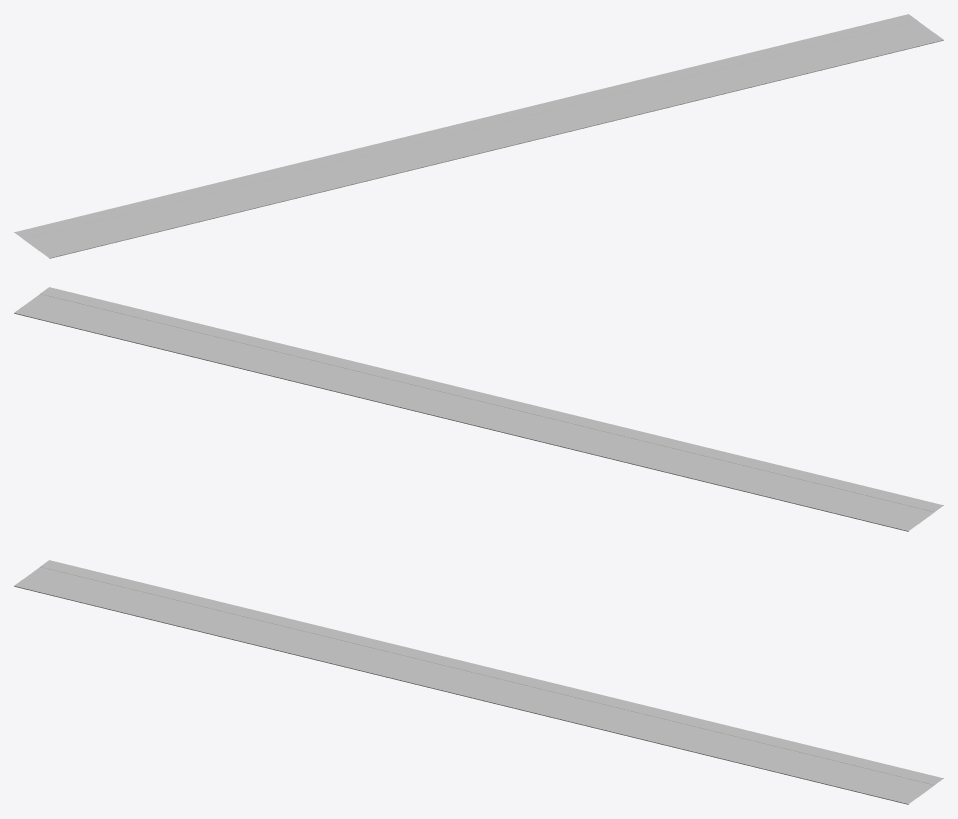
Rendered from Road1.FBX.
The picture shows the model from 3 angles, top to bottom: view 1: azimuth 30°, elevation 25°; view 2: azimuth 150°, elevation 25°; view 3: azimuth 330°, elevation 25°; orthographic projection.
Parts seen in each view (by area): view 1: Road1; view 2: Road1; view 3: Road1.
Boxes of the visible parts, left/top/right/bottom form: Road1: left=14, top=14, right=943, bottom=258; Road1: left=14, top=287, right=943, bottom=531; Road1: left=14, top=560, right=943, bottom=804.
Size of the model in its own units: 693 by 47.33 by 0.5453.
